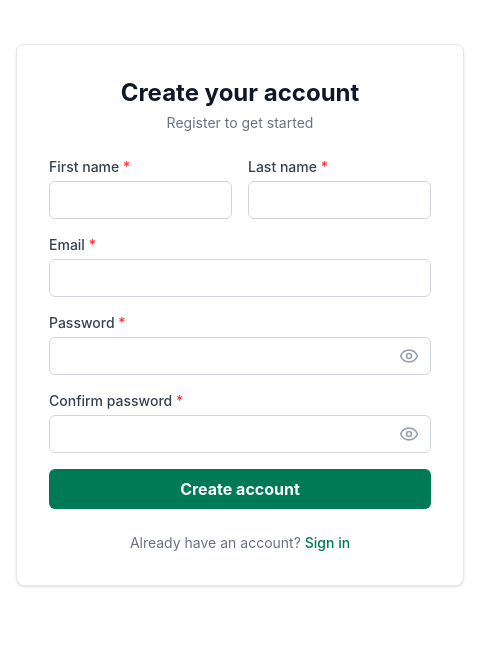
Register.vue › shows validation errors when fields are invalid or empty
// Submit empty
Submit the form, box [49, 157, 431, 509]
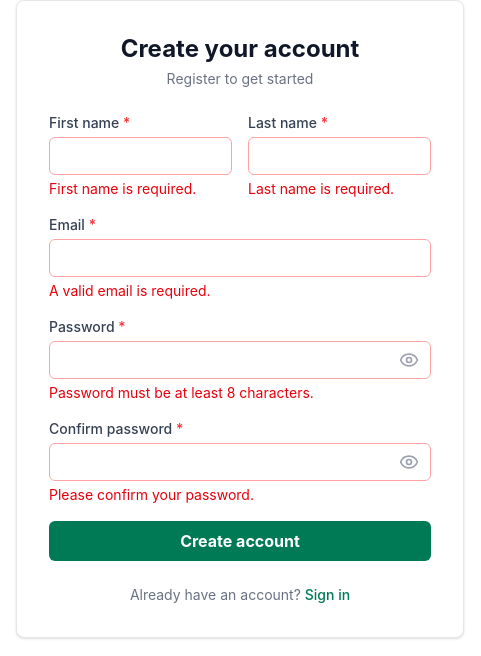
Check: the text "First name is required." is shown, box [49, 180, 196, 197]
Check: the text "Last name is required." is shown, box [248, 180, 394, 197]
Check: the text "A valid email is required." is shown, box [49, 282, 210, 299]
// Submit mismatched passwords
Type "password123" into the password field labelled "Password *" at (240, 360), box [49, 341, 431, 379]
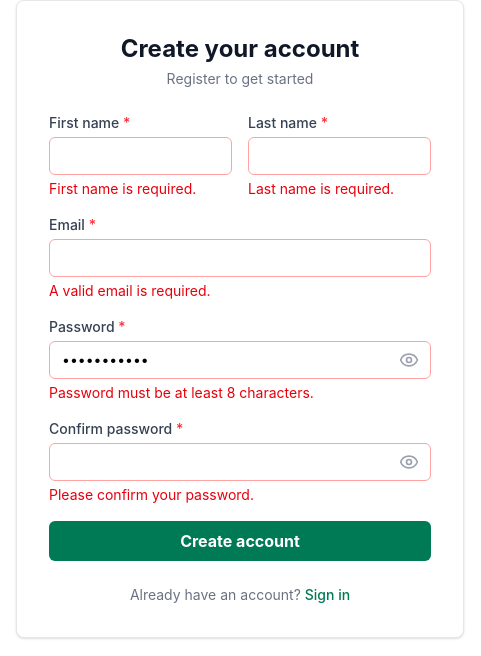
Type "mismatch" into the password field with id "confirm_password" at (240, 462), box [49, 443, 431, 481]
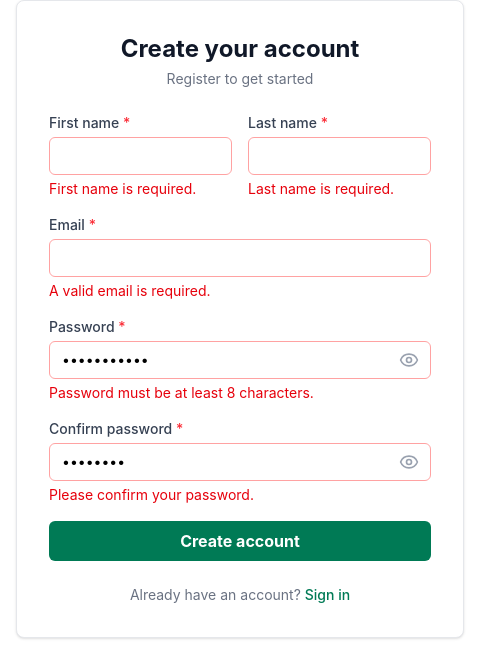
Submit the form, box [49, 113, 431, 561]
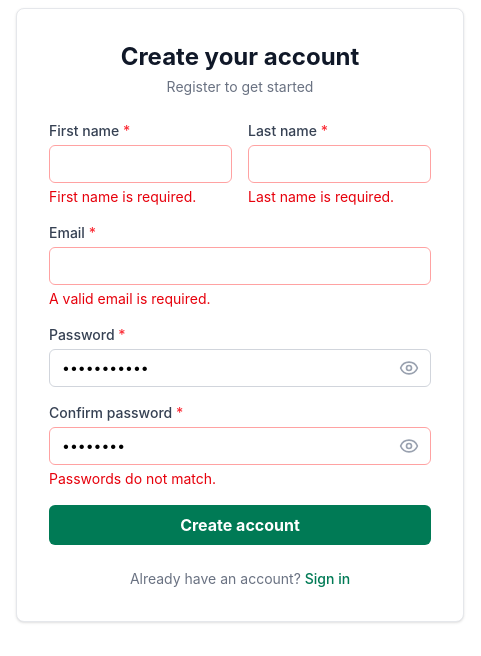
Check: the text "Passwords do not match." is shown, box [49, 470, 216, 487]
